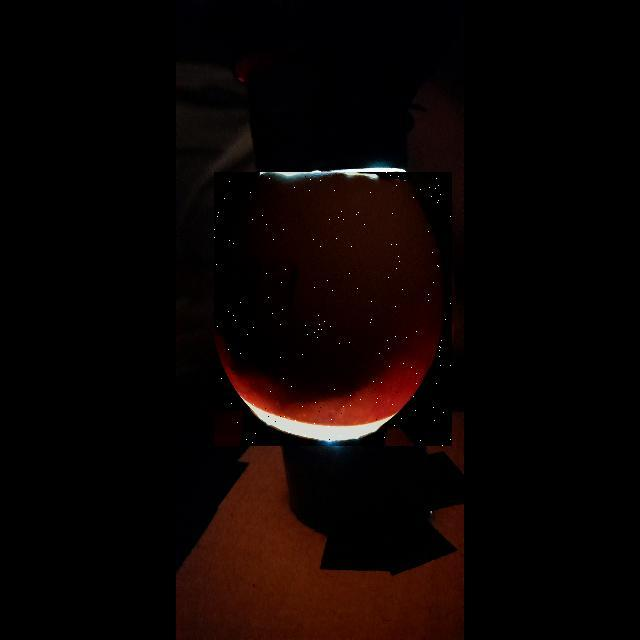Fertile: (214, 172, 452, 446)
